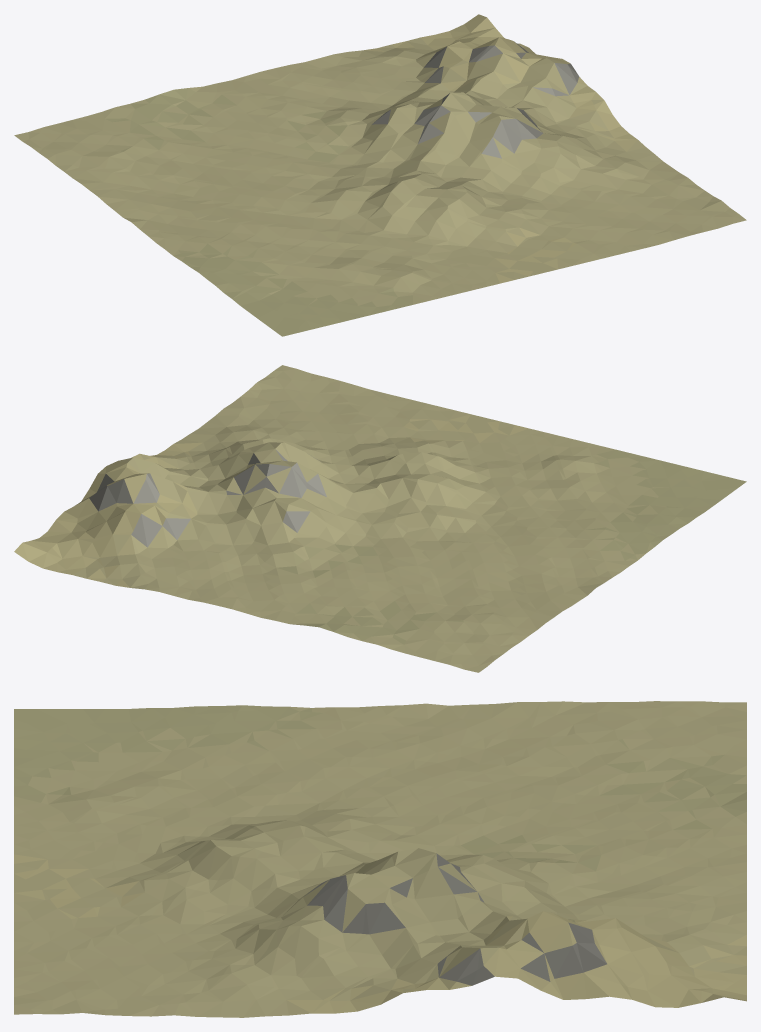
File: Ground_1_1.glb
3 renders of one model, top to bottom at view 1: azimuth 30°, elevation 25°; view 2: azimuth 150°, elevation 25°; view 3: azimuth 270°, elevation 25°, orthographic. The views are drawn at different scales.
Visible parts, largest first — view 1: Ground_1_1; view 2: Ground_1_1; view 3: Ground_1_1.
Part boxes in pixels (bbox=[...]): Ground_1_1: bbox=[14, 14, 746, 336]; Ground_1_1: bbox=[14, 365, 746, 672]; Ground_1_1: bbox=[14, 701, 746, 1017].
Bounding box in the file's own units: 768 × 82.22 × 768.
